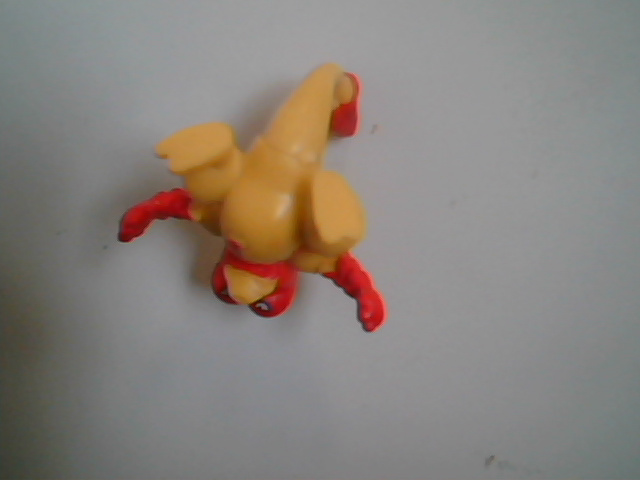magmar: (94, 41, 467, 409)
